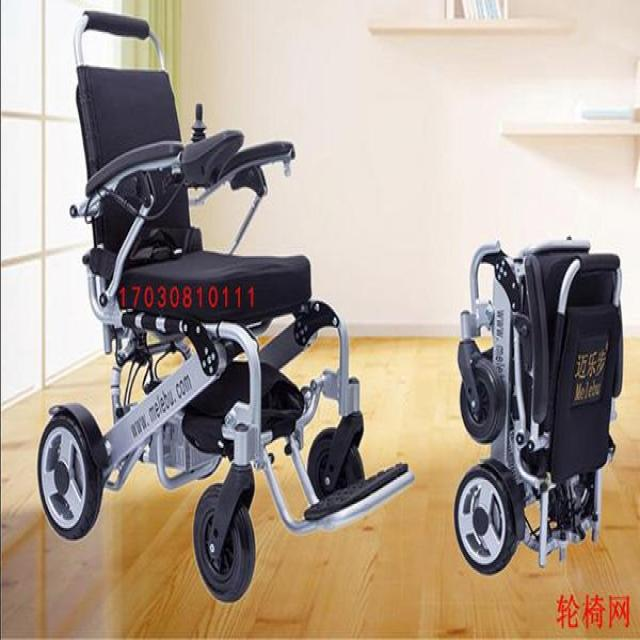wheelchairs: (30, 11, 422, 607)
